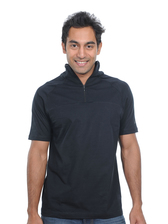clothoes: (28, 62, 141, 216)
